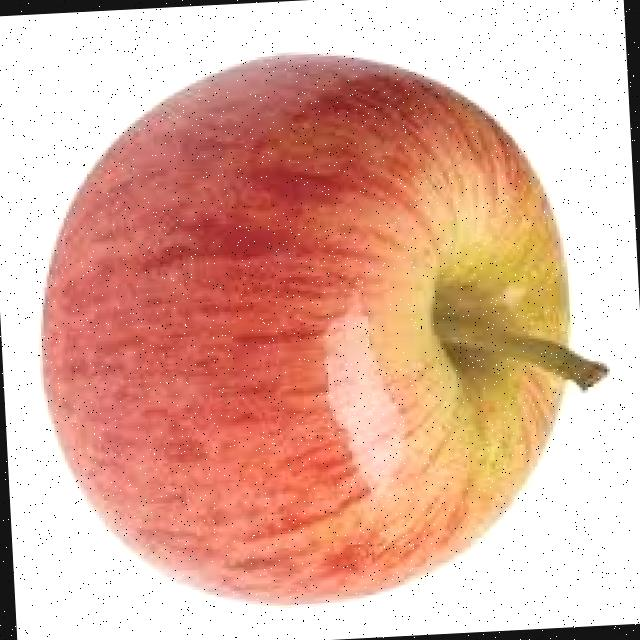apple: (22, 35, 622, 620)
